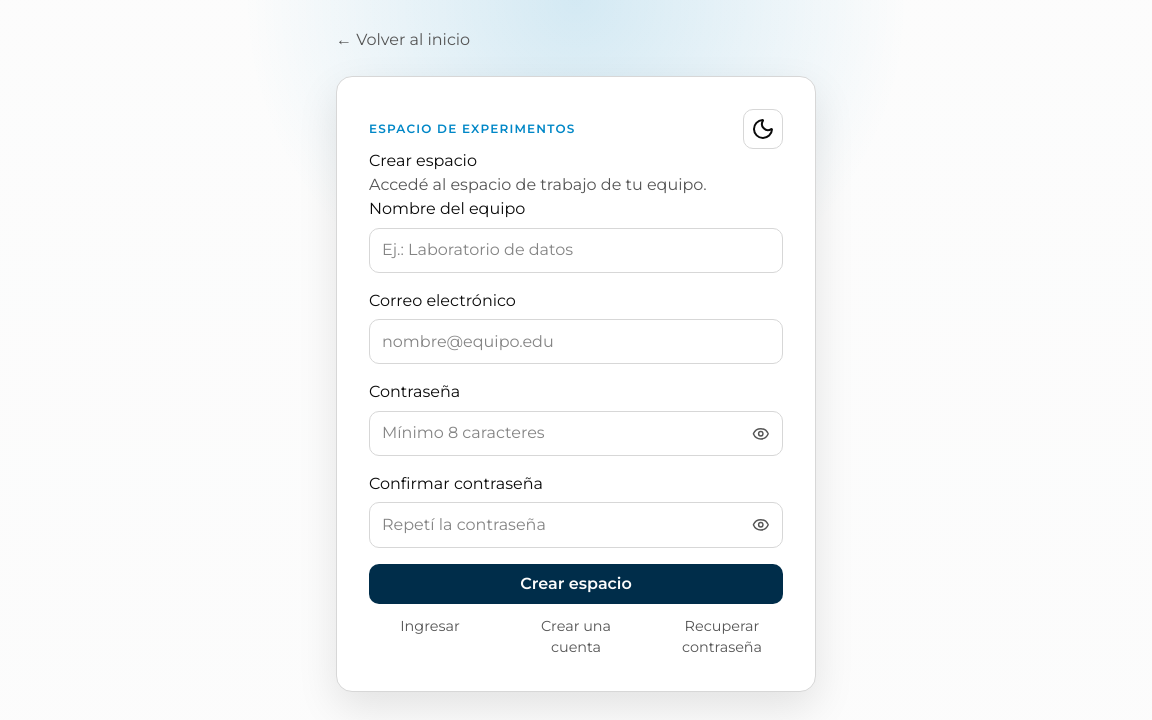
it: application routes › keeps a newly registered administrator on the protected dashboard after the session commits
Type "Laboratorio" into the field labelled "Nombre del equipo" at (576, 250), box [369,228,783,273]
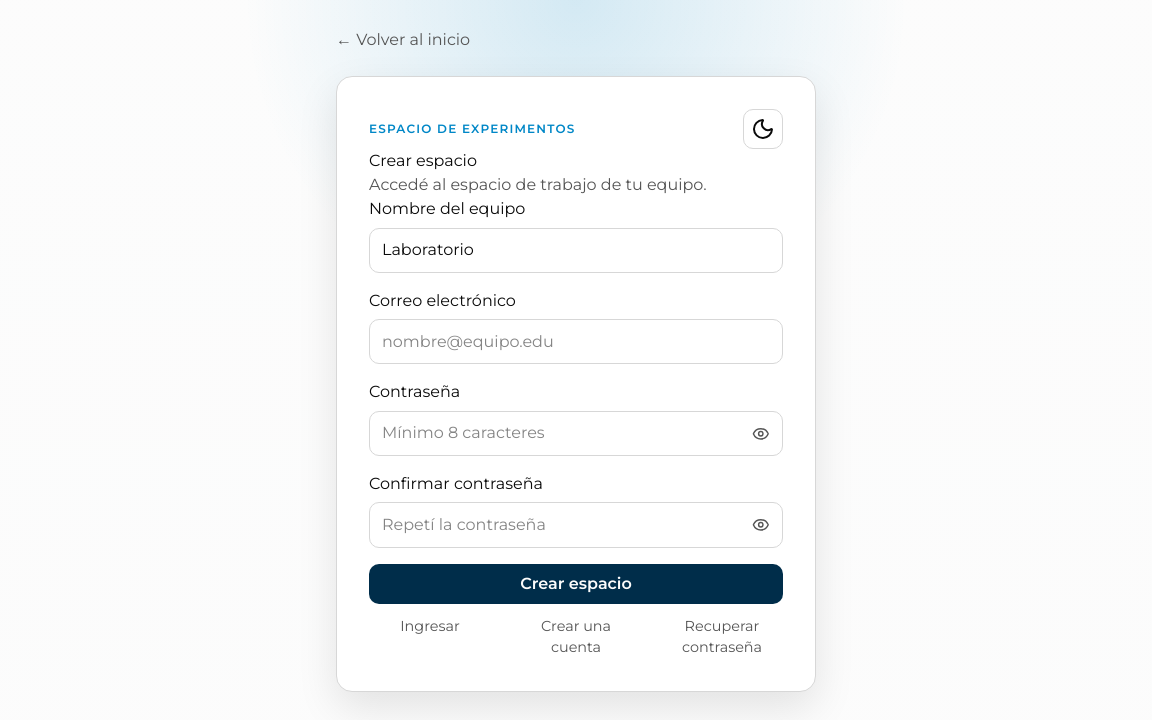
Type "admin@equipo.edu" into the field labelled "Correo electrónico" at (576, 342), box [369,319,783,364]
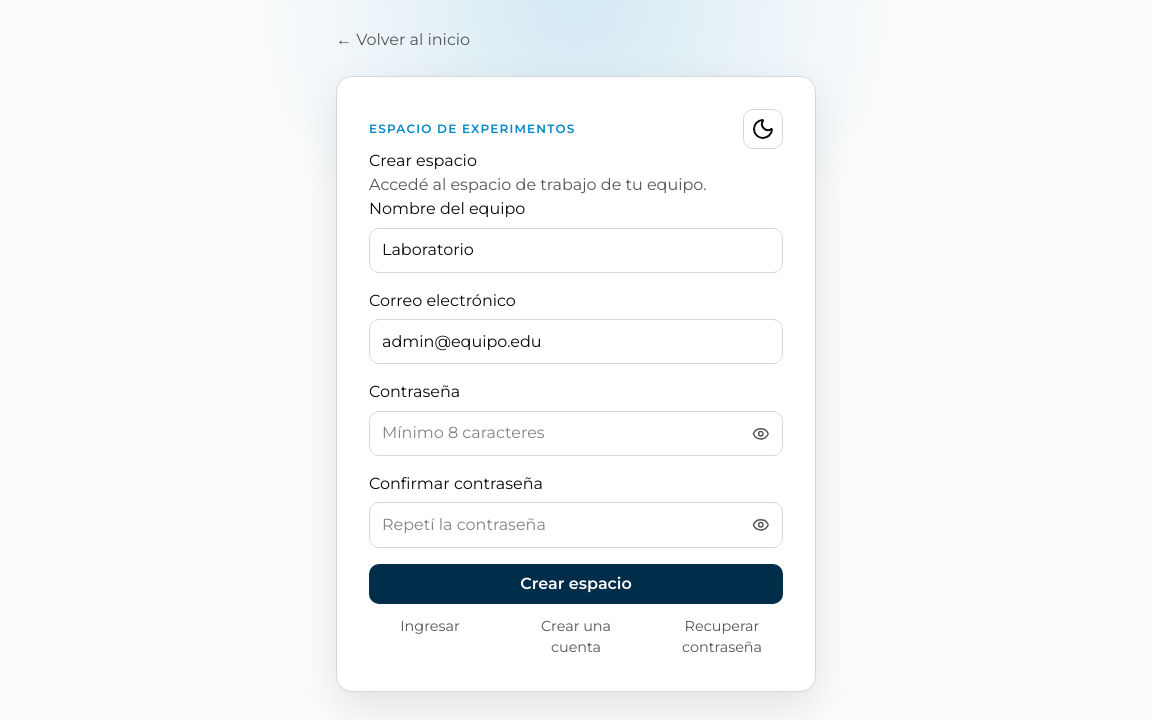
Type "contraseña-segura" into the password field labelled "Contraseña" at (576, 433), box [369,411,783,456]
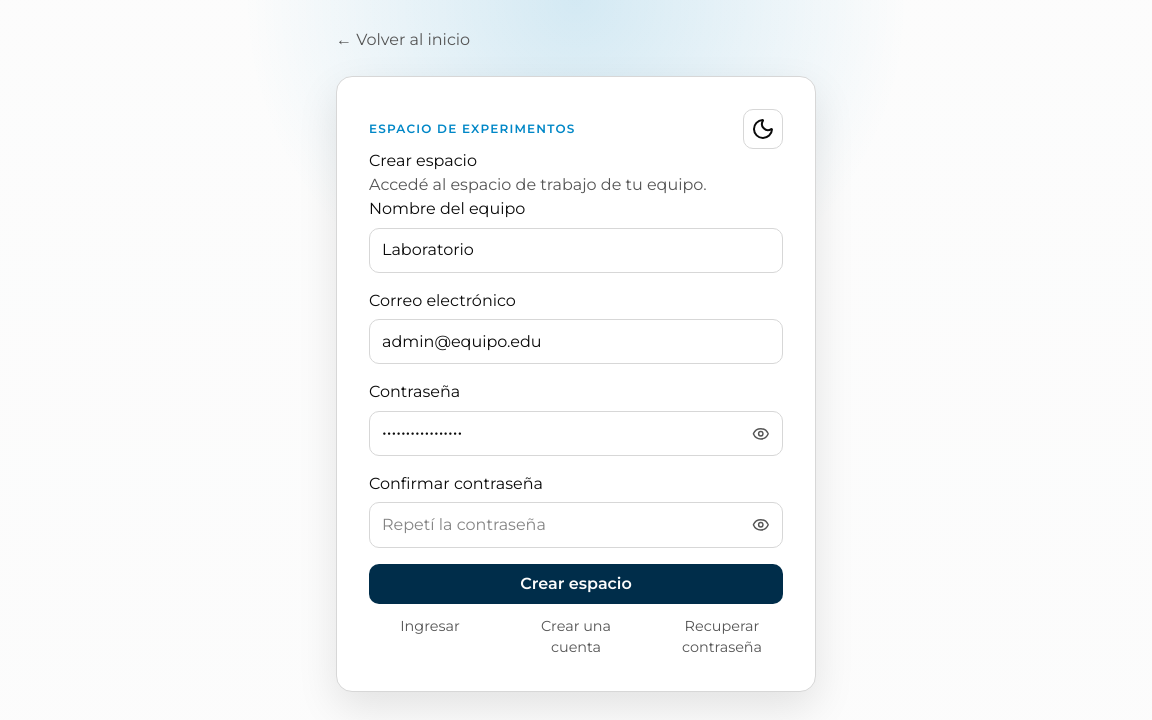
Type "contraseña-segura" into the password field labelled "Confirmar contraseña" at (576, 525), box [369,502,783,548]
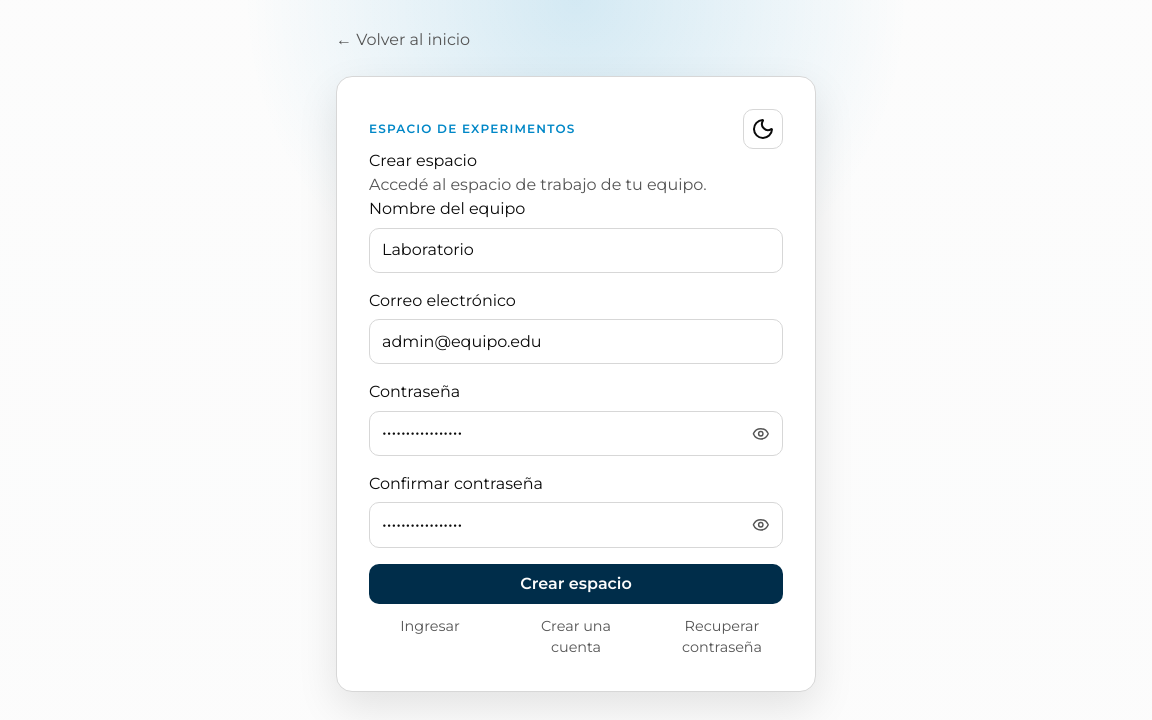
Click the button "Crear espacio" at (576, 584), box [369,564,783,604]
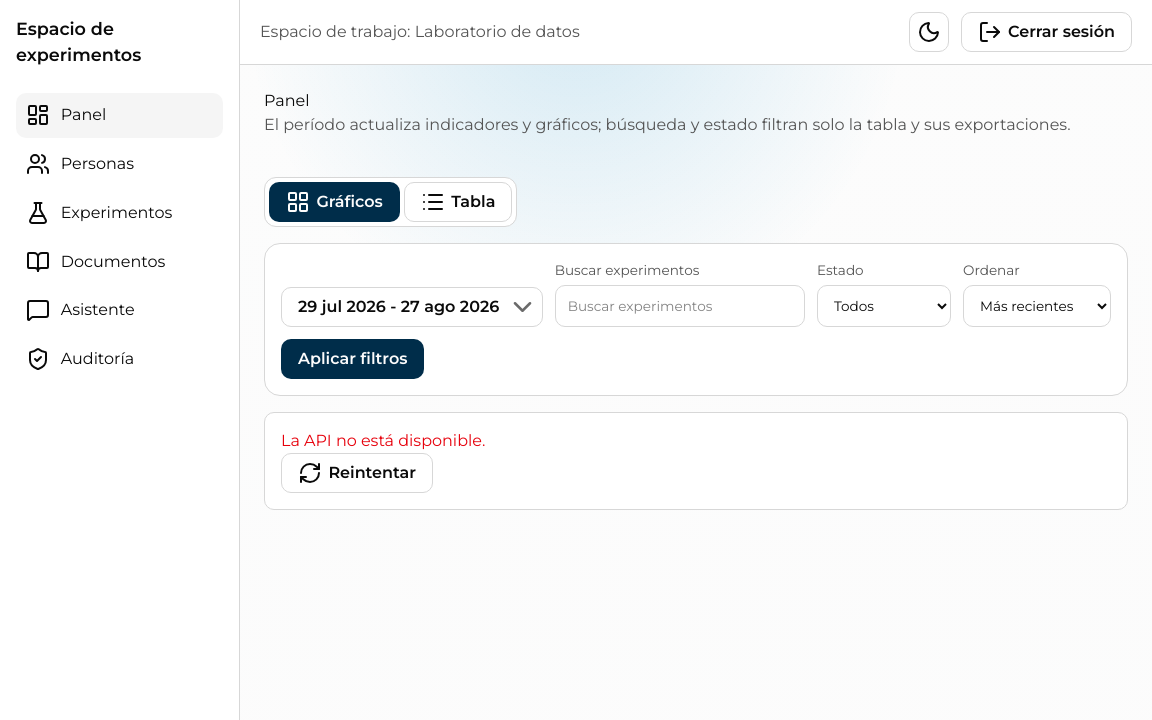
Expected: the heading "Panel" is shown, [264,91,310,110]
